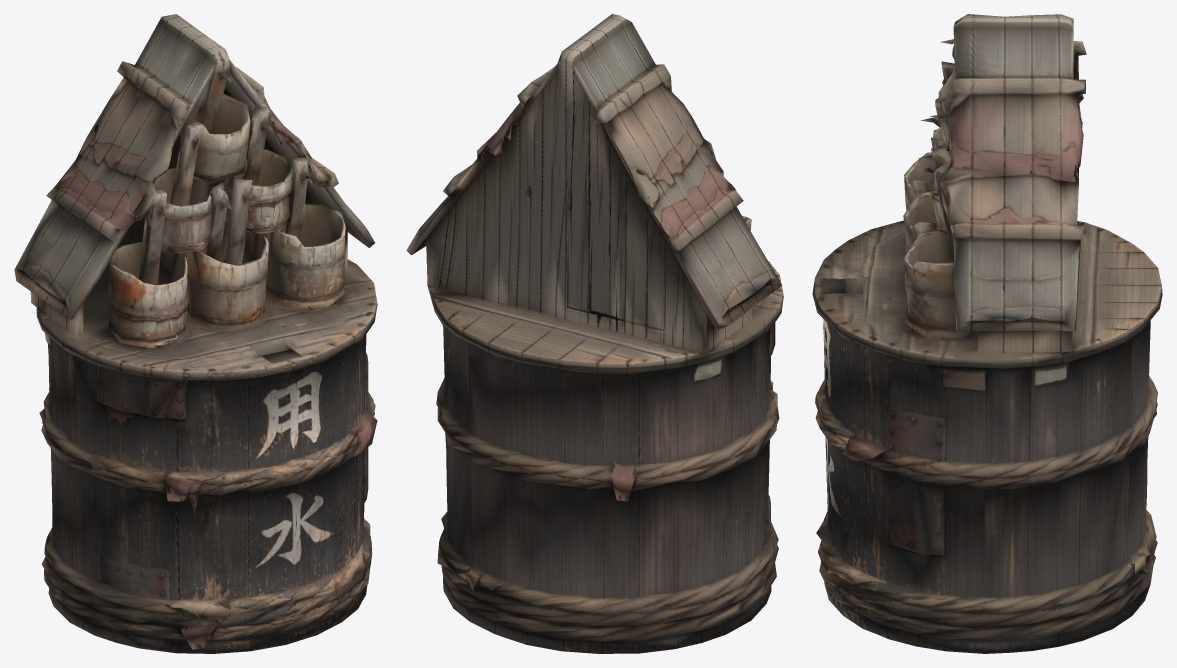
The model's file is cistern.glb.
3 renders of one model, left to right at view 1: azimuth 30°, elevation 25°; view 2: azimuth 150°, elevation 25°; view 3: azimuth 270°, elevation 25°, orthographic. The views are drawn at different scales.
Parts seen in each view (by area): view 1: knn_000000; view 2: knn_000000; view 3: knn_000000.
Boxes of the visible parts, left/top/right/bottom form: knn_000000: left=14, top=14, right=377, bottom=653; knn_000000: left=406, top=14, right=783, bottom=653; knn_000000: left=812, top=14, right=1162, bottom=653.
Size of the model in its own units: 0.592 by 1 by 0.5597.
1 material, 1 textured.
